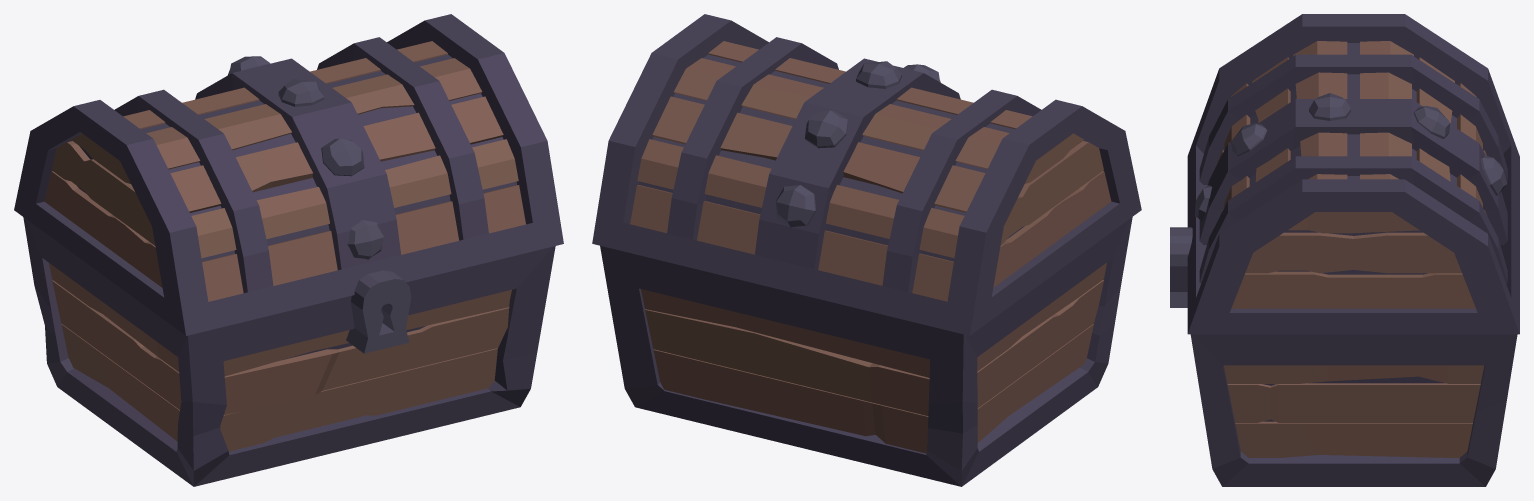
File: dungeon_chest.glb
3 views of the same model, side by side, from view 1: azimuth 30°, elevation 25°; view 2: azimuth 150°, elevation 25°; view 3: azimuth 270°, elevation 25° (orthographic). The views are drawn at different scales.
Visible parts, largest first — view 1: Chest_Closed; view 2: Chest_Closed; view 3: Chest_Closed.
Boxes of the visible parts, x1,y1,x2,y2 form: Chest_Closed: [14, 14, 563, 486]; Chest_Closed: [592, 14, 1141, 486]; Chest_Closed: [1170, 14, 1519, 486].
Size of the model in its own units: 2 by 1.64 by 1.66.
